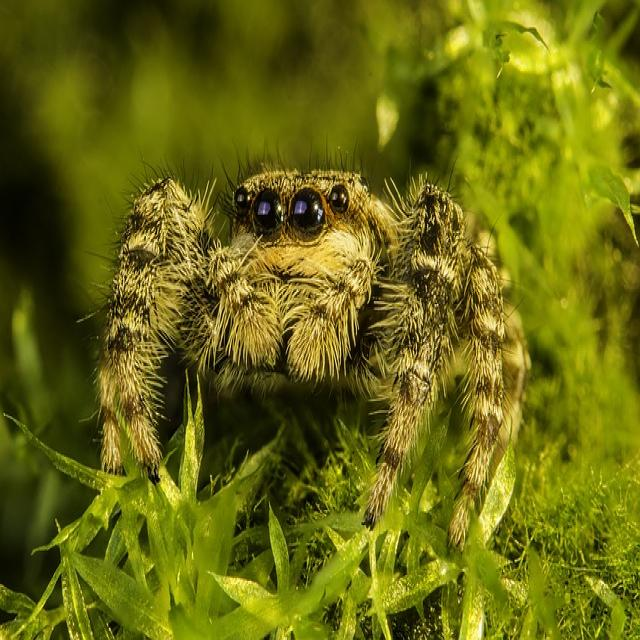spyder: (99, 172, 529, 546)
